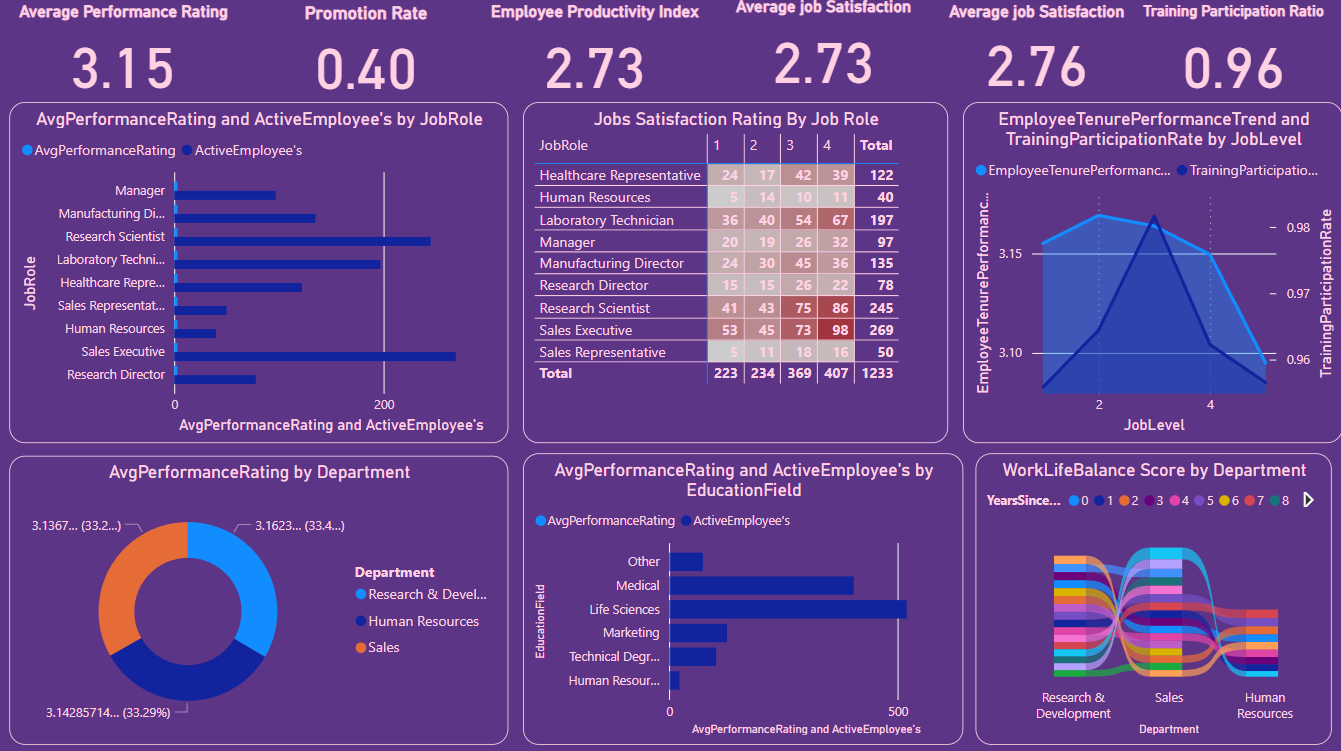

What the dashboard file says about the page in this screenshot:
{"tool":"powerbi","page":{"name":"Page 2","canvas":[1280,720],"ordinal":1},"visuals":[{"type":"clusteredBarChart","fields":{"Y":["EmployeeAttrition.AvgPerformanceRating","EmployeeAttrition.ActiveEmployee's"],"Category":["EmployeeAttrition.JobRole"]},"box":[10.7,100,474.8,324.9],"z":0},{"type":"barChart","fields":{"Category":["EmployeeAttrition.JobRole"],"Y":["EmployeeAttrition.JobRoleSatisfaction"]},"box":[499.8,434.4,405.8,277.3],"z":1000},{"type":"card","title":"Promotion Rate","fields":{"Values":["EmployeeAttrition.PromotionRate"]},"box":[241.6,4.8,217.8,95.2],"z":2000},{"type":"pivotTable","title":"Jobs Satisfaction Rating By Job Role","fields":{"Rows":["EmployeeAttrition.JobRole"],"Columns":["EmployeeAttrition.JobSatisfaction"],"Values":["EmployeeAttrition.ActiveEmployee's"]},"box":[499.8,100,404.6,324.9],"z":3000},{"type":"donutChart","fields":{"Category":["EmployeeAttrition.Department"],"Y":["EmployeeAttrition.AvgPerformanceRating"]},"box":[10.7,436.8,474.8,274.9],"z":4000},{"type":"card","title":"Average Performance Rating","fields":{"Values":["EmployeeAttrition.AvgPerformanceRating"]},"box":[10.7,4.8,217.8,95.2],"z":5000},{"type":"card","title":"Employee Productivity Index","fields":{"Values":["EmployeeAttrition.EmployeeProductivityIndex"]},"box":[459.4,4.8,217.8,95.2],"z":6000},{"type":"card","title":"Average job Satisfaction","fields":{"Values":["EmployeeAttrition.JobRoleSatisfaction"]},"box":[677.2,0,217.8,95.2],"z":7000},{"type":"columnChart","title":"WorkLifeBalance Score by Department","fields":{"Y":["EmployeeAttrition.WorkLifeBalanceScore"],"Category":["EmployeeAttrition.Department"]},"box":[930.6,434.4,326.1,277.3],"z":8000},{"type":"card","title":"Average job Satisfaction","fields":{"Values":["EmployeeAttrition.WorkLifeBalanceScore"]},"box":[894.9,4.8,188,90.4],"z":9000},{"type":"card","title":"Training Participation Ratio","fields":{"Values":["EmployeeAttrition.TrainingParticipationRate"]},"box":[1083,4.8,186.8,95.2],"z":10000},{"type":"areaChart","fields":{"Y":["EmployeeAttrition.EmployeeTenurePerformanceTrend"],"Category":["EmployeeAttrition.JobLevel"],"Y2":["EmployeeAttrition.TrainingParticipationRate"]},"box":[918.7,100,361.8,324.9],"z":11000}]}

Visuals, with their boxes in screenshot pixels (x1, y1, x2, y2), scaled from the page's 1280x720 canvas onto the 1341x751 screenshot:
clusteredBarChart - EmployeeAttrition.AvgPerformanceRating x EmployeeAttrition.ActiveEmployee's: [11, 104, 509, 443]
barChart - EmployeeAttrition.JobRole x EmployeeAttrition.JobRoleSatisfaction: [524, 453, 949, 742]
"Promotion Rate" card: [253, 5, 481, 104]
"Jobs Satisfaction Rating By Job Role" pivotTable: [524, 104, 948, 443]
donutChart - EmployeeAttrition.Department x EmployeeAttrition.AvgPerformanceRating: [11, 456, 509, 742]
"Average Performance Rating" card: [11, 5, 239, 104]
"Employee Productivity Index" card: [481, 5, 709, 104]
"Average job Satisfaction" card: [709, 0, 938, 99]
"WorkLifeBalance Score by Department" columnChart: [975, 453, 1317, 742]
"Average job Satisfaction" card: [938, 5, 1135, 99]
"Training Participation Ratio" card: [1135, 5, 1330, 104]
areaChart - EmployeeAttrition.EmployeeTenurePerformanceTrend x EmployeeAttrition.JobLevel: [962, 104, 1340, 443]
